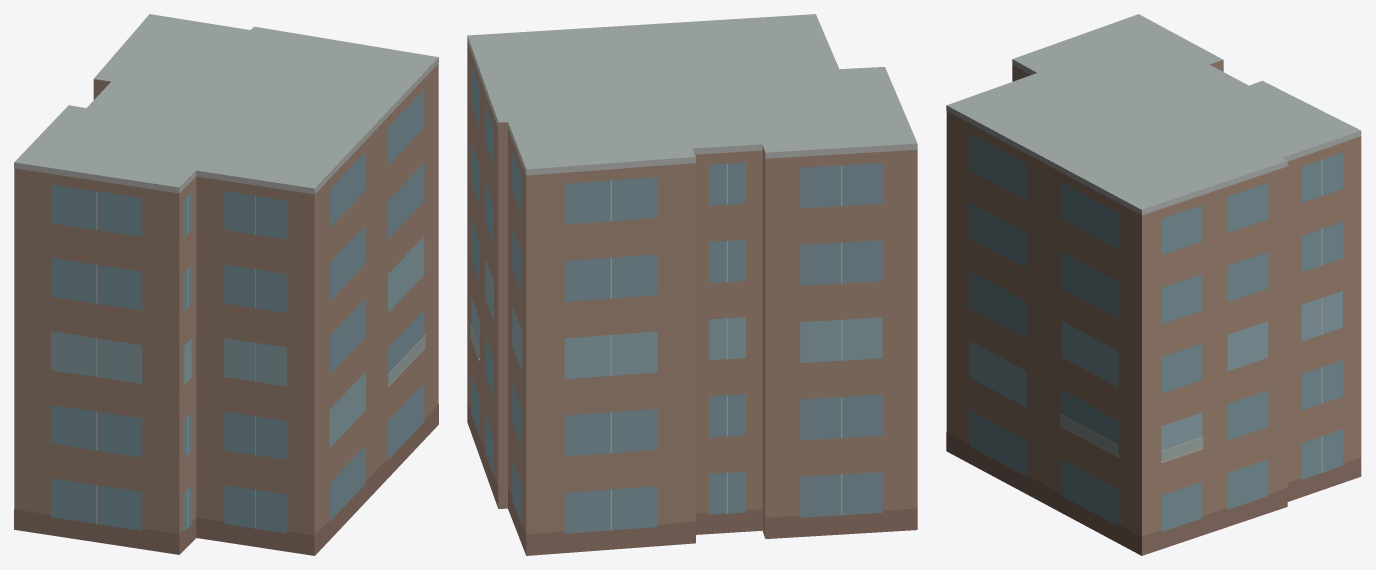
File: survey-upis-32932292.glb
3 renders of one model, left to right at view 1: azimuth 30°, elevation 25°; view 2: azimuth 150°, elevation 25°; view 3: azimuth 270°, elevation 25°, orthographic. The views are drawn at different scales.
Parts seen in each view (by area): view 1: survey-upis-32932292.tmp; view 2: survey-upis-32932292.tmp; view 3: survey-upis-32932292.tmp.
Boxes of the visible parts, <box> form: survey-upis-32932292.tmp: <box>14,14,438,555</box>; survey-upis-32932292.tmp: <box>467,14,917,555</box>; survey-upis-32932292.tmp: <box>946,14,1361,555</box>.
Size of the model in its own units: 18.53 by 15.25 by 16.58.
